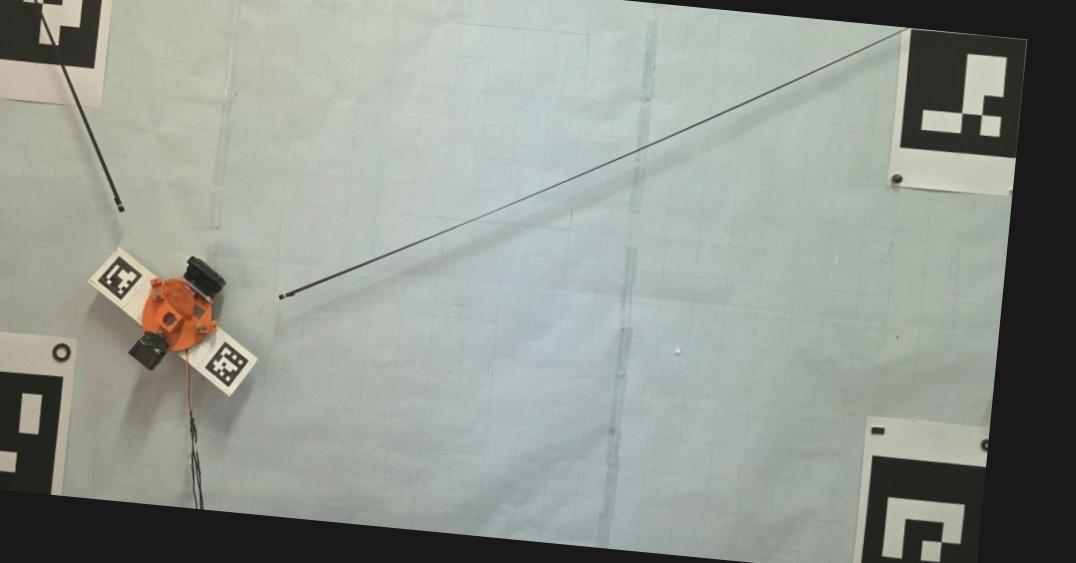robot: (128, 257, 227, 371)
